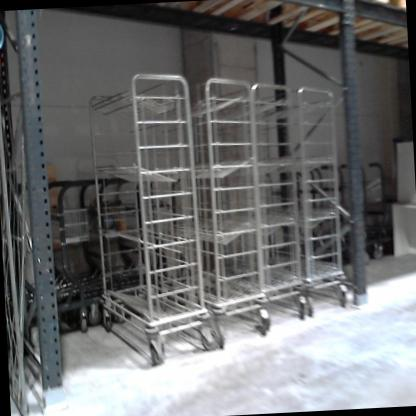pallet: (287, 0, 406, 37)
